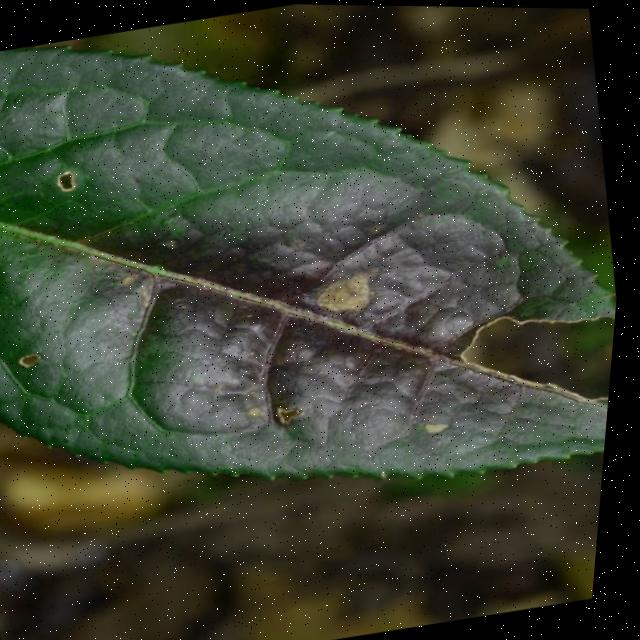Tea exobasidium blight: (91, 139, 580, 476)
